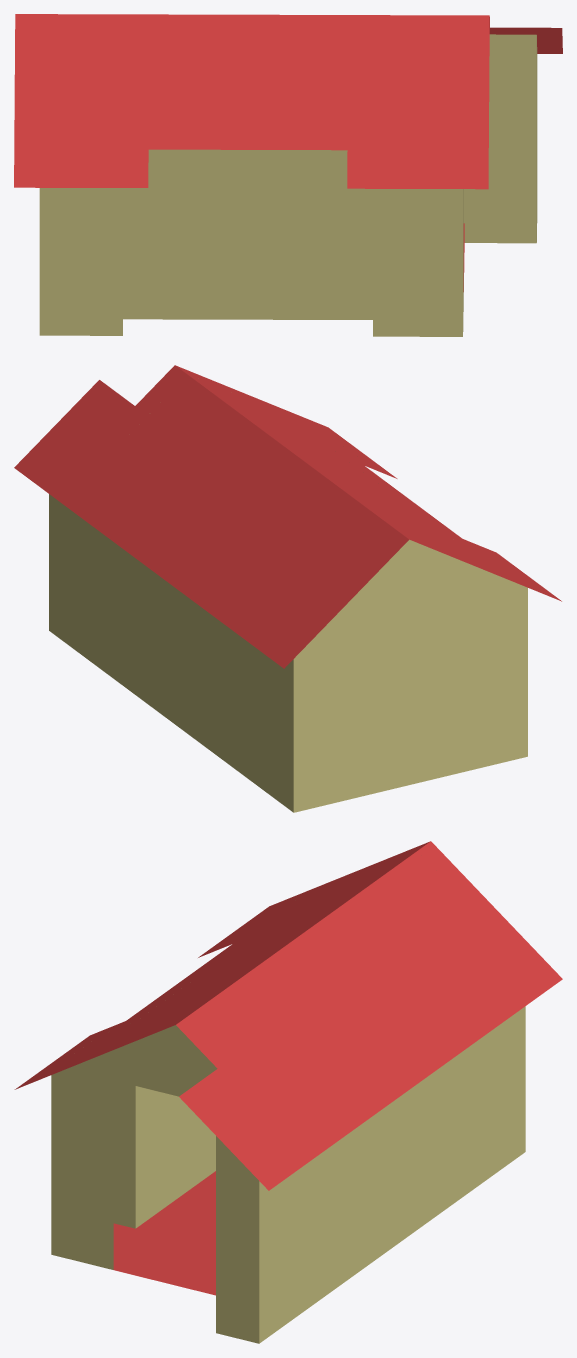
3 renders of one model, top to bottom at view 1: azimuth 30°, elevation 25°; view 2: azimuth 150°, elevation 25°; view 3: azimuth 270°, elevation 25°, orthographic. The views are drawn at different scales.
Parts seen in each view (by area): view 1: group_5, group_3, group_4; view 2: group_5, group_3, group_4; view 3: group_5, group_3, group_4, group_6.
Boxes of the visible parts, x1,y1,x2,y2 form: group_5: [39, 34, 537, 336]; group_3: [14, 14, 562, 189]; group_4: [14, 15, 562, 189]; group_5: [49, 494, 527, 812]; group_3: [14, 365, 560, 668]; group_4: [14, 365, 561, 667]; group_5: [51, 1006, 525, 1343]; group_3: [16, 842, 562, 1190]; group_4: [15, 841, 561, 1190]; group_6: [113, 1171, 215, 1295].
Bounding box in the file's own units: 24.72 × 20.15 × 11.1.
